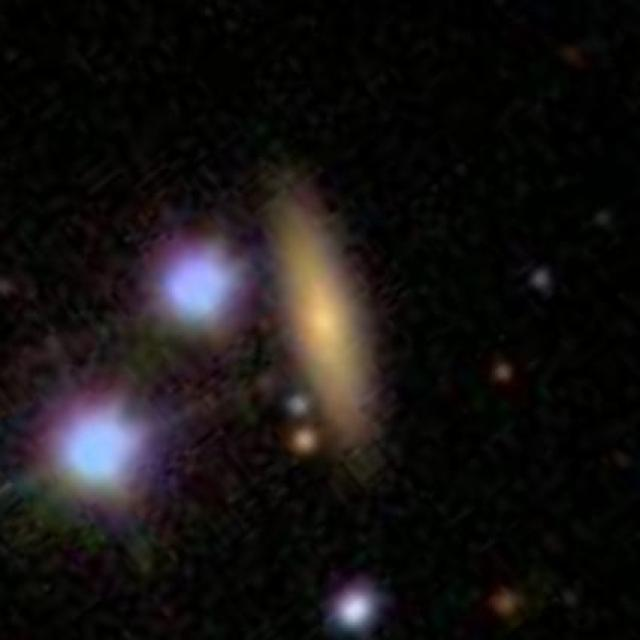galaxy: (255, 165, 400, 468), (314, 571, 395, 640), (487, 583, 526, 625), (280, 388, 319, 422), (285, 426, 324, 457), (522, 265, 558, 292), (486, 360, 516, 386)
star: (1, 329, 277, 581), (109, 158, 273, 372)
